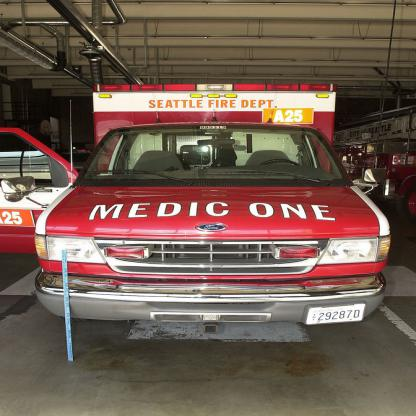Ambulance: (0, 84, 391, 334)
Truck: (0, 84, 392, 362)
